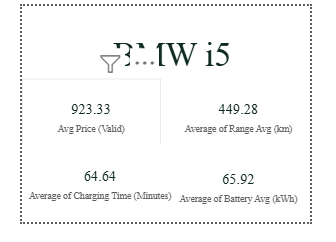

The dashboard page shown, as its layout file describes it:
{"tool":"powerbi","page":{"name":"Tootlip Vehicle","canvas":[320,240],"ordinal":6},"visuals":[{"type":"card","fields":{"Values":["Min(EV_Data.Vehicle Name)"]},"box":[77,7,181,90],"z":0},{"type":"card","fields":{"Values":["EV_Data.Avg Price (Valid)"]},"box":[0,81,154,84],"z":1000},{"type":"card","fields":{"Values":["Avg(EV_Data.Range Avg (km))"]},"box":[161,78,159,89],"z":2000},{"type":"card","fields":{"Values":["Avg(EV_Data.Battery Avg (kWh))"]},"box":[161,160,159,80],"z":3000},{"type":"card","fields":{"Values":["Avg(EV_Data.Charging Time (Minutes))"]},"box":[0,154,174,86],"z":4000}]}

Visuals, with their boxes on the page's 320x240 design canvas (x1, y1, x2, y2). These are canvas units, not pixel positions in the 336x242 screenshot, which may show the page scaled, cropped or inside an application window:
card - Min(EV_Data.Vehicle Name): detection(77, 7, 258, 97)
card - EV_Data.Avg Price (Valid): detection(0, 81, 154, 165)
card - Avg(EV_Data.Range Avg (km)): detection(161, 78, 320, 167)
card - Avg(EV_Data.Battery Avg (kWh)): detection(161, 160, 320, 240)
card - Avg(EV_Data.Charging Time (Minutes)): detection(0, 154, 174, 240)
